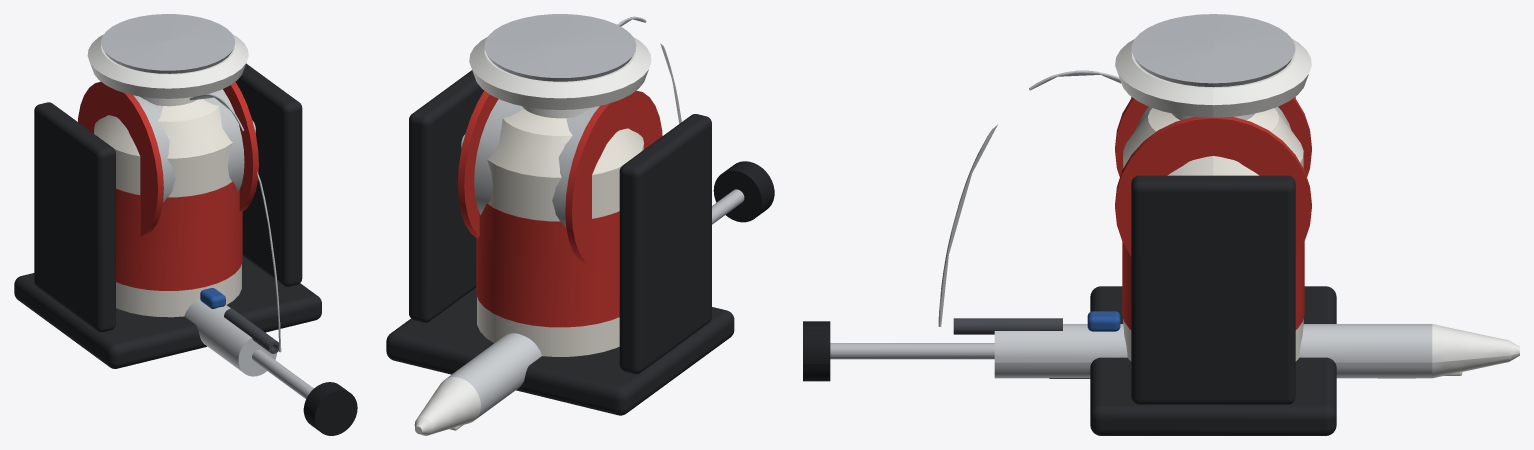
The model's file is solder-consumables.glb.
3 renders of one model, left to right at view 1: azimuth 30°, elevation 25°; view 2: azimuth 150°, elevation 25°; view 3: azimuth 270°, elevation 25°, orthographic. The views are drawn at different scales.
Visible parts, largest first — view 1: solder_spool_stand, ipa_label, ipa_bottle, spool_flange, ipa_plate, ipa_pump, desolder_pump, spool_wire, desolder_pump_knob, desolder_pump_plunger, spool_guide, spool_feed (+1 smaller); view 2: solder_spool_stand, ipa_label, ipa_bottle, spool_flange, ipa_plate, ipa_pump, desolder_pump, spool_wire, desolder_pump_nozzle, desolder_pump_knob, desolder_pump_plunger, spool_feed; view 3: solder_spool_stand, desolder_pump, spool_flange, ipa_plate, ipa_pump, ipa_bottle, desolder_pump_nozzle, desolder_pump_plunger, desolder_pump_knob, spool_guide, ipa_label, spool_feed (+1 smaller).
Boxes of the visible parts, box(x1,y1,x2,y2) form: solder_spool_stand: box(14, 63, 321, 368); ipa_label: box(116, 181, 242, 290); ipa_bottle: box(94, 99, 241, 317); spool_flange: box(78, 81, 258, 236); ipa_plate: box(101, 14, 235, 73); ipa_pump: box(87, 34, 248, 106); desolder_pump: box(184, 299, 276, 376); spool_wire: box(133, 89, 244, 202); desolder_pump_knob: box(303, 382, 357, 435); desolder_pump_plunger: box(252, 349, 313, 398); spool_guide: box(224, 308, 278, 353); spool_feed: box(189, 94, 281, 352); solder_spool_stand: box(386, 70, 734, 415); ipa_label: box(476, 203, 619, 327); ipa_bottle: box(477, 109, 643, 356); spool_flange: box(457, 90, 662, 265); ipa_plate: box(484, 14, 636, 81); ipa_pump: box(469, 37, 651, 118); desolder_pump: box(445, 333, 541, 418); spool_wire: box(474, 99, 599, 227); desolder_pump_nozzle: box(414, 377, 480, 435); desolder_pump_knob: box(713, 161, 774, 222); desolder_pump_plunger: box(712, 189, 744, 224); spool_feed: box(617, 16, 681, 123); solder_spool_stand: box(1090, 97, 1336, 435); desolder_pump: box(994, 324, 1432, 378); spool_flange: box(1115, 97, 1311, 256); ipa_plate: box(1131, 14, 1295, 87); ipa_pump: box(1115, 39, 1311, 120); ipa_bottle: box(1123, 108, 1303, 361); desolder_pump_nozzle: box(1432, 324, 1519, 378); desolder_pump_plunger: box(830, 343, 994, 359); desolder_pump_knob: box(803, 321, 830, 381); spool_guide: box(953, 318, 1062, 334); ipa_label: box(1122, 242, 1304, 329); spool_feed: box(938, 70, 1121, 326).
Size of the model in its own units: 0.11 by 0.137 by 0.262.
